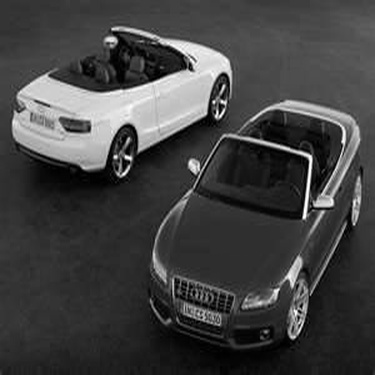car: (145, 92, 366, 357), (9, 23, 237, 183)
